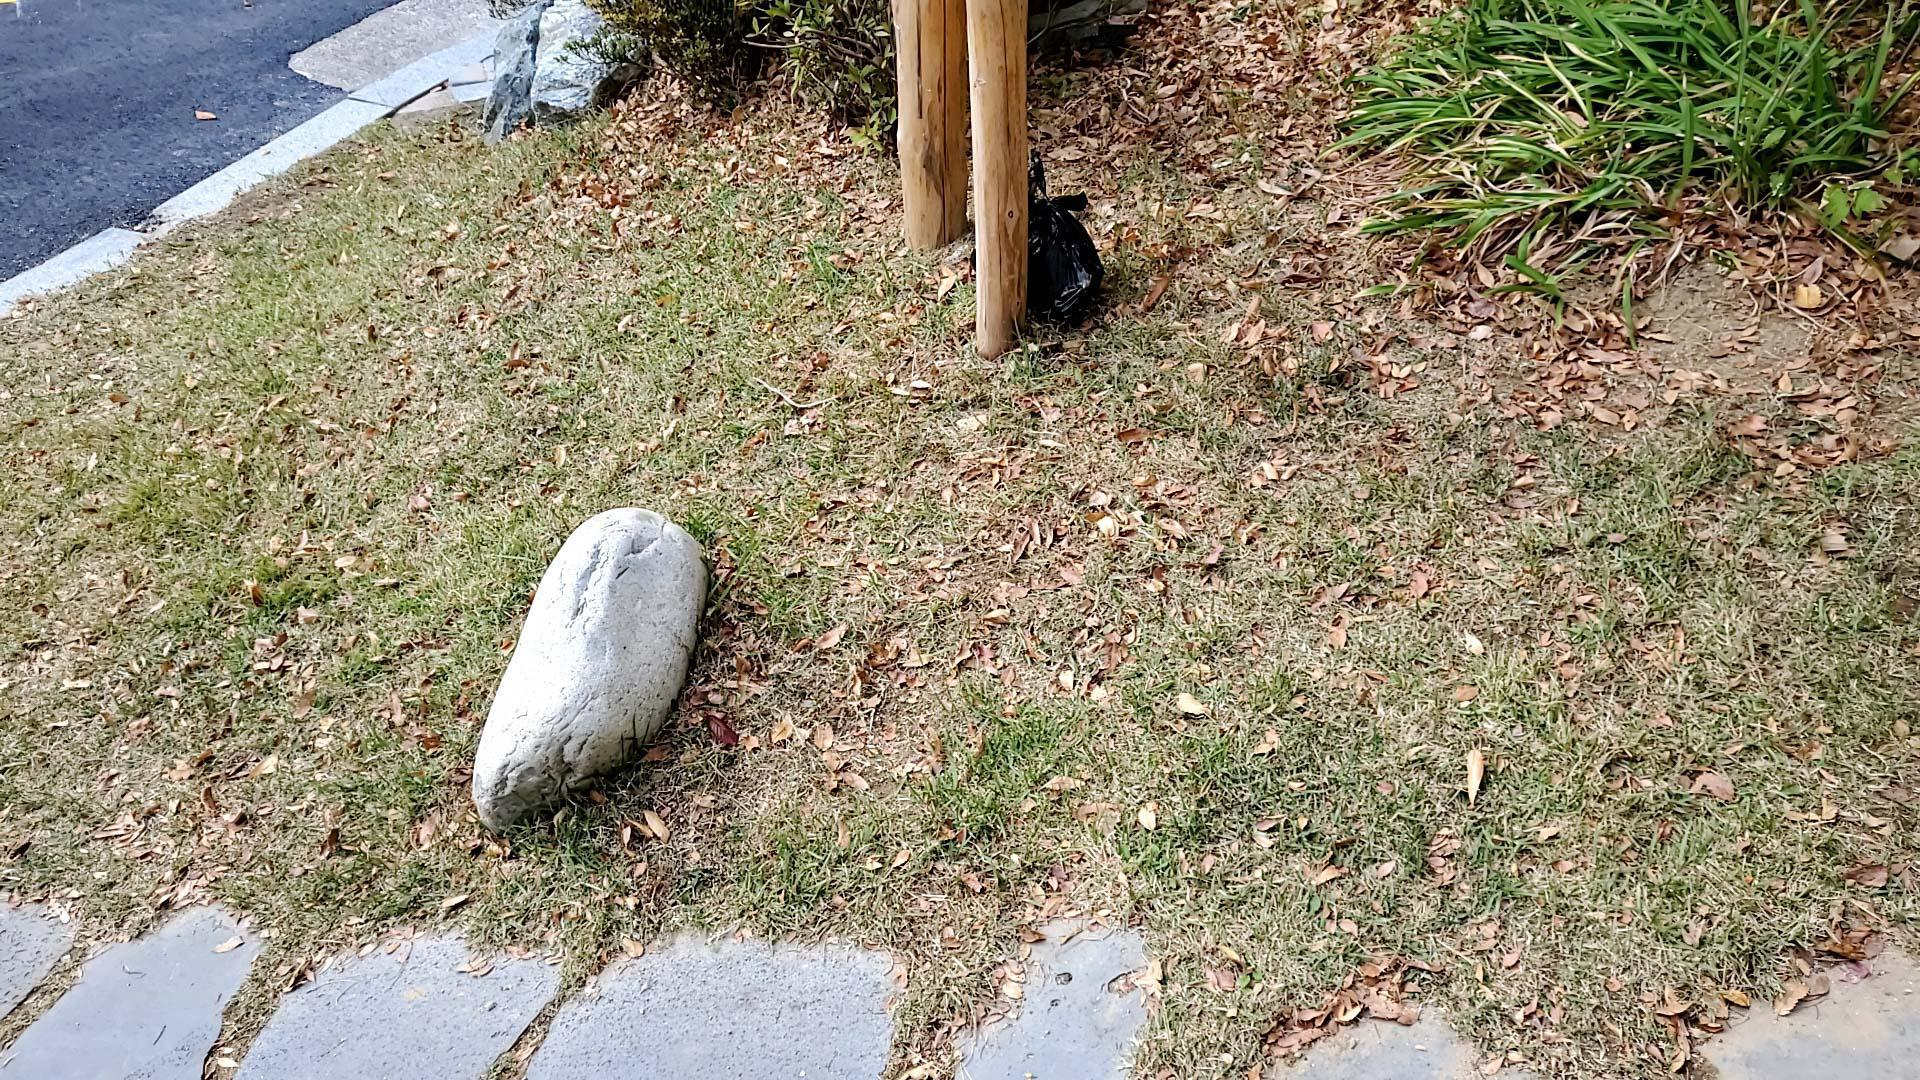black_bag: (992, 140, 1118, 330)
